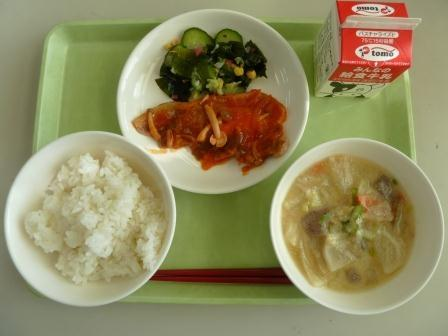Milk: (307, 0, 424, 101)
Rice: (10, 137, 162, 303)
Salad: (153, 22, 260, 98)
Soups: (271, 143, 435, 308)
vegetable based cooked food: (139, 88, 289, 168)
